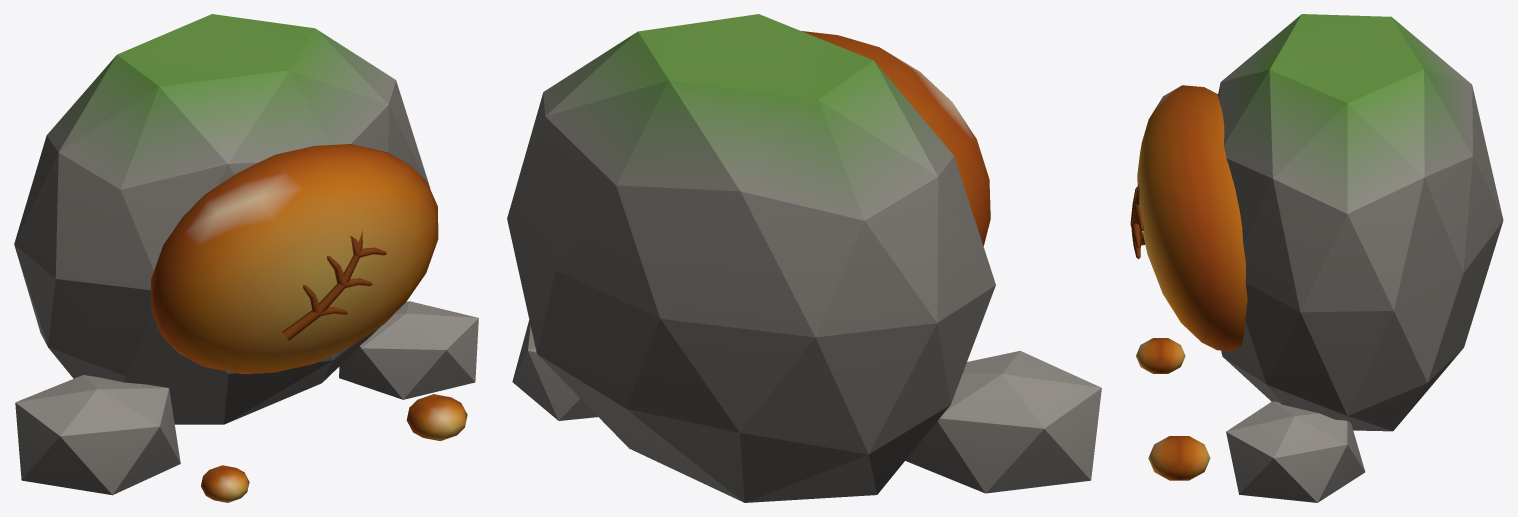
File: food_amber_v3_b.fbx
3 renders of one model, left to right at view 1: azimuth 30°, elevation 25°; view 2: azimuth 150°, elevation 25°; view 3: azimuth 270°, elevation 25°, orthographic. The views are drawn at different scales.
Parts seen in each view (by area): view 1: food_amber_v3_b; view 2: food_amber_v3_b; view 3: food_amber_v3_b.
Part boxes in pixels (<box>): food_amber_v3_b: <box>14,14,478,502</box>; food_amber_v3_b: <box>507,14,1101,502</box>; food_amber_v3_b: <box>1130,14,1503,502</box>.
Bounding box in the file's own units: 173 × 128 × 120.
